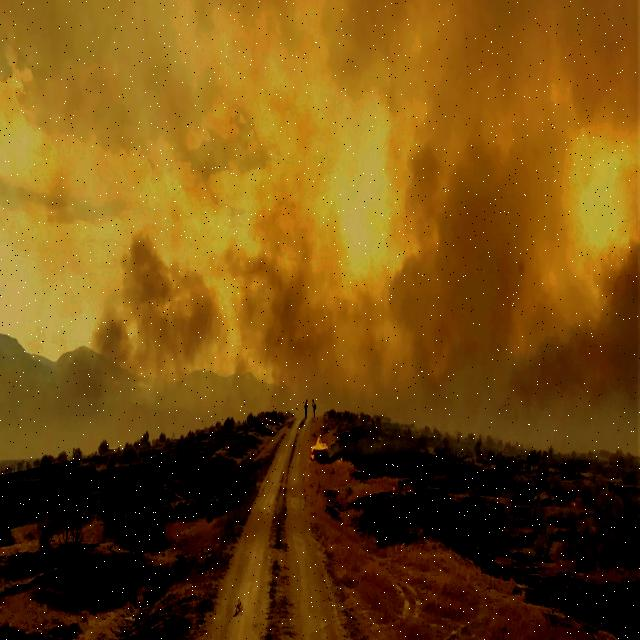asap: (1, 1, 640, 479)
